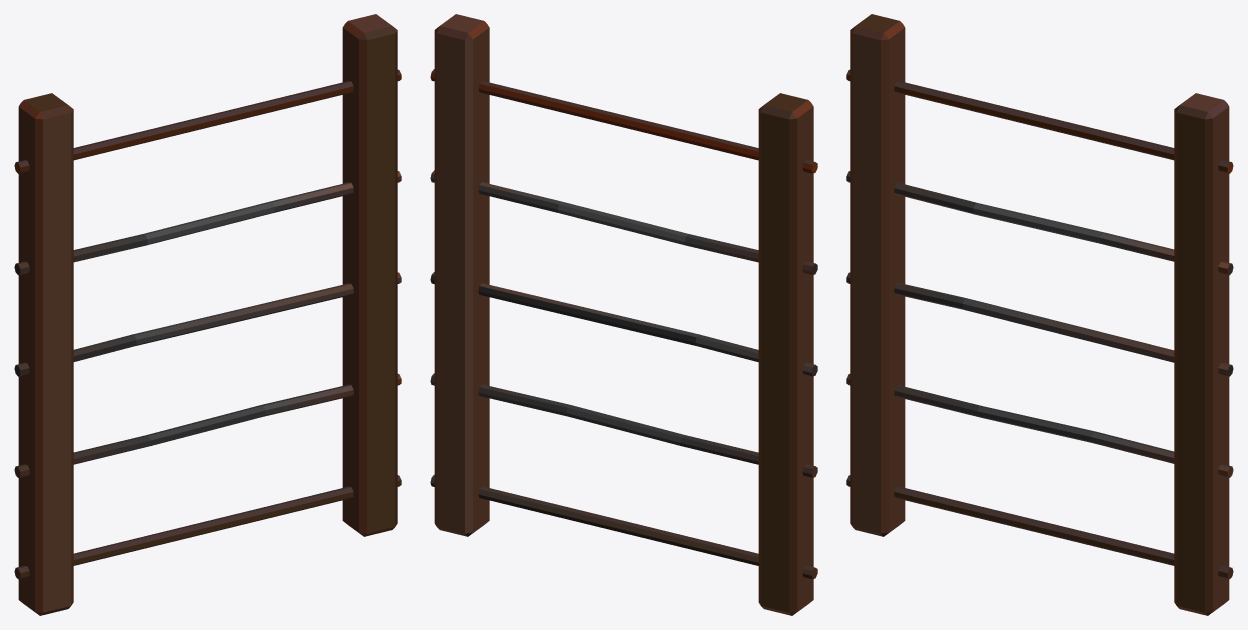
Rendered from Prop_Rack.fbx.
The picture shows the model from 3 angles, left to right: view 1: azimuth 30°, elevation 25°; view 2: azimuth 150°, elevation 25°; view 3: azimuth 330°, elevation 25°; orthographic projection.
Parts seen in each view (by area): view 1: Prop_Rack; view 2: Prop_Rack; view 3: Prop_Rack.
Part boxes in pixels (<box>): Prop_Rack: <box>14,14,401,615</box>; Prop_Rack: <box>430,14,817,615</box>; Prop_Rack: <box>846,14,1233,615</box>.
Size of the model in its own units: 198 by 250 by 20.
